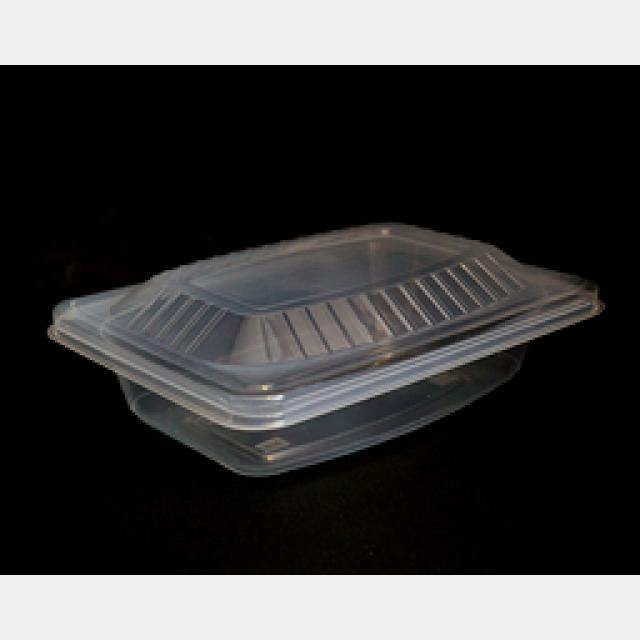inorganic: (44, 217, 600, 478)
